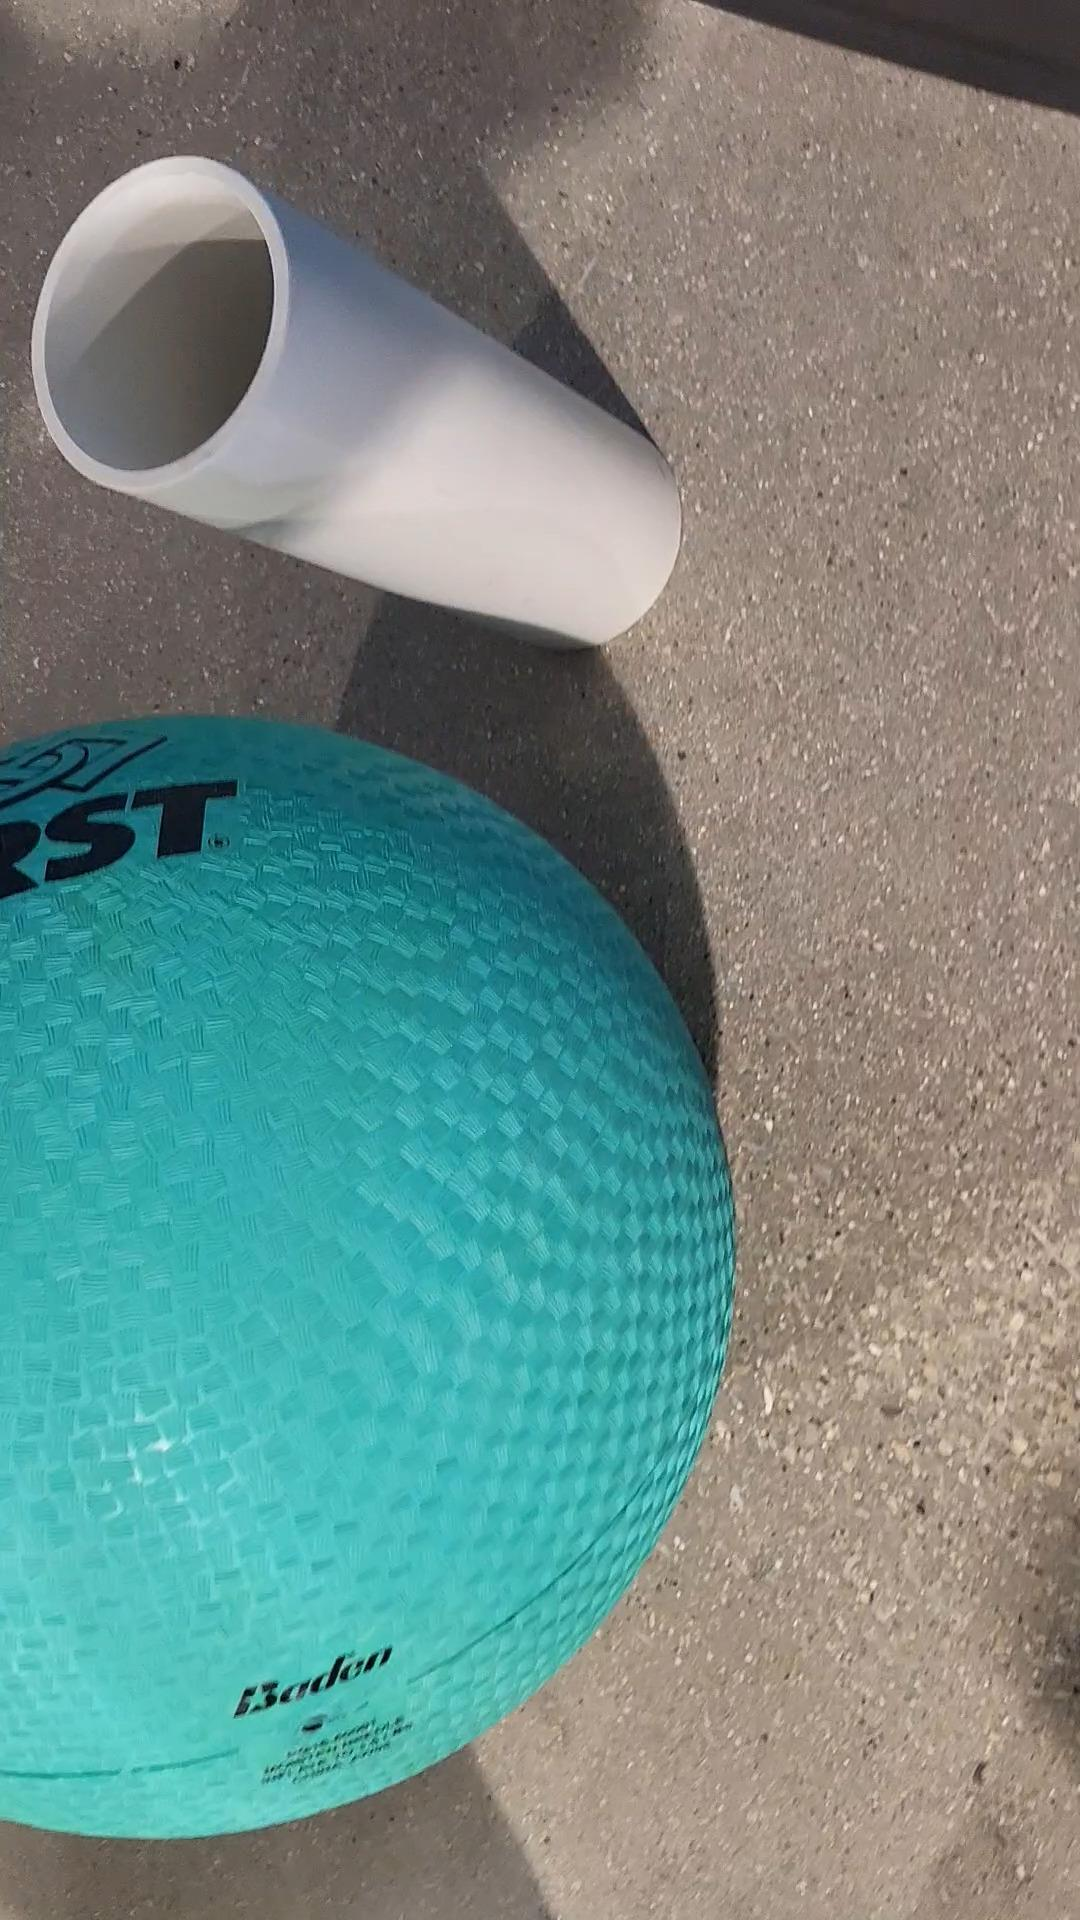algae: (0, 700, 757, 1850)
coral: (30, 154, 690, 653)
